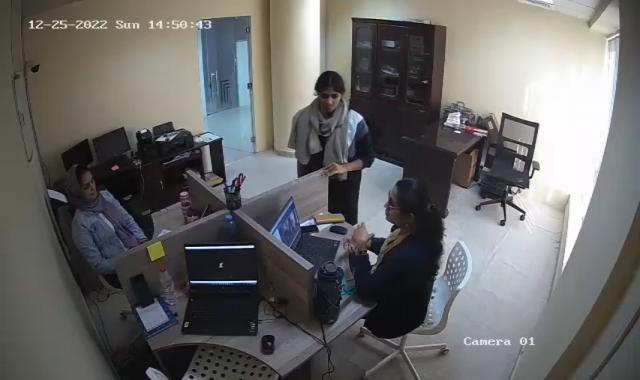no_hairnet: (388, 178, 428, 228), (64, 166, 98, 205), (314, 71, 345, 111)
